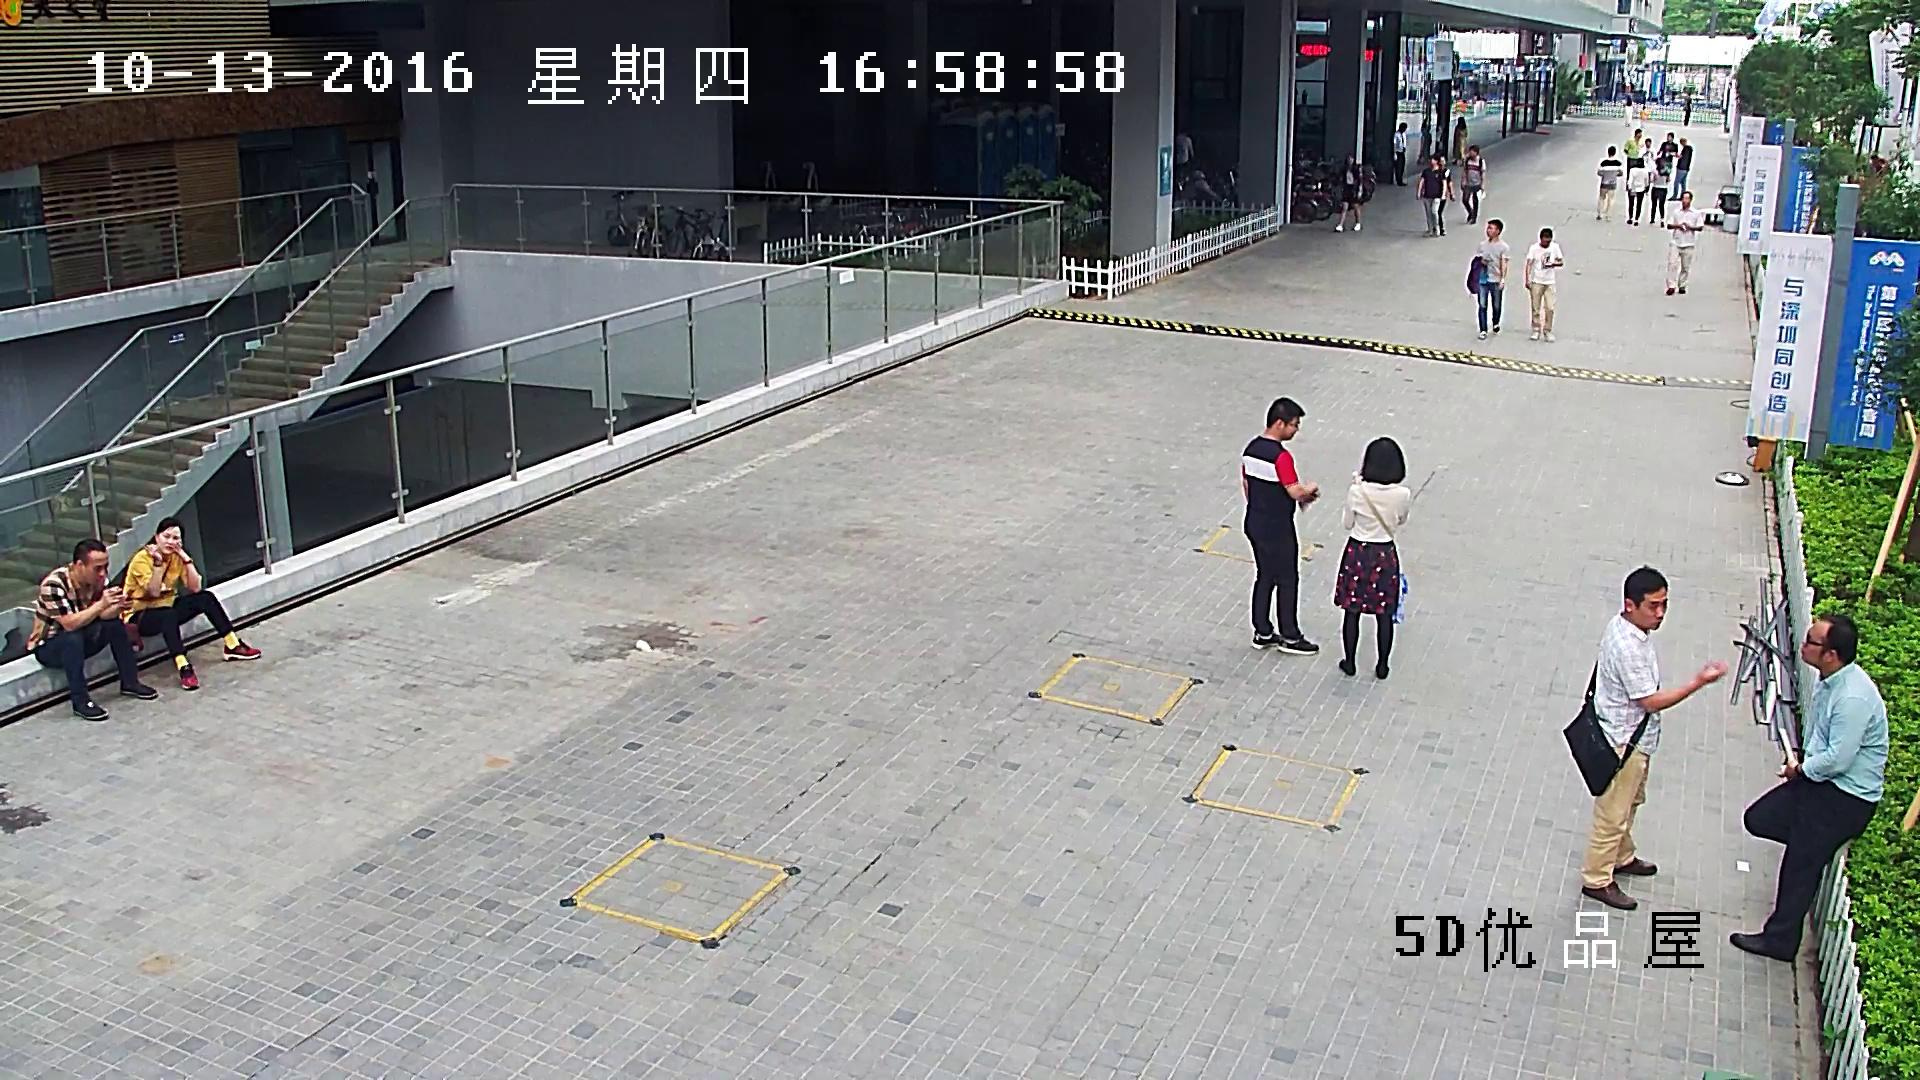person: (1563, 563, 1728, 909), (1729, 613, 1889, 961), (120, 515, 261, 689), (26, 538, 158, 720), (1240, 396, 1319, 654), (1333, 437, 1411, 678), (1466, 219, 1509, 339), (1525, 227, 1563, 341), (1666, 191, 1704, 295), (1460, 144, 1487, 224), (1416, 153, 1442, 237), (1596, 145, 1623, 220), (1335, 152, 1360, 232), (1667, 136, 1693, 201), (1437, 153, 1456, 235), (1627, 158, 1648, 226), (1623, 128, 1644, 191), (1649, 157, 1666, 227), (1639, 137, 1658, 193), (1657, 131, 1678, 182), (1393, 122, 1407, 185), (1452, 116, 1468, 166), (1174, 128, 1194, 165), (1416, 118, 1432, 164), (1624, 94, 1632, 127), (1683, 92, 1691, 125)
